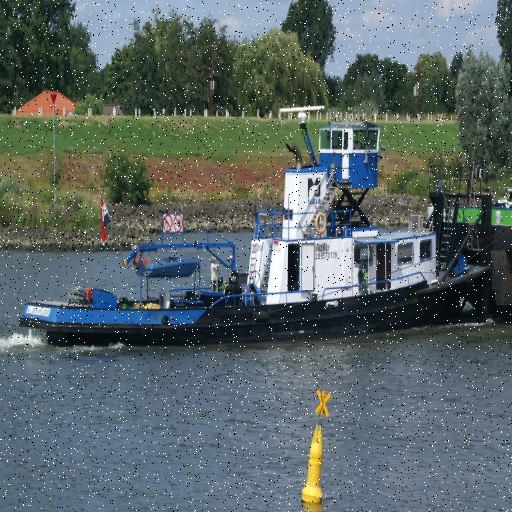tugboat: (13, 99, 497, 363)
